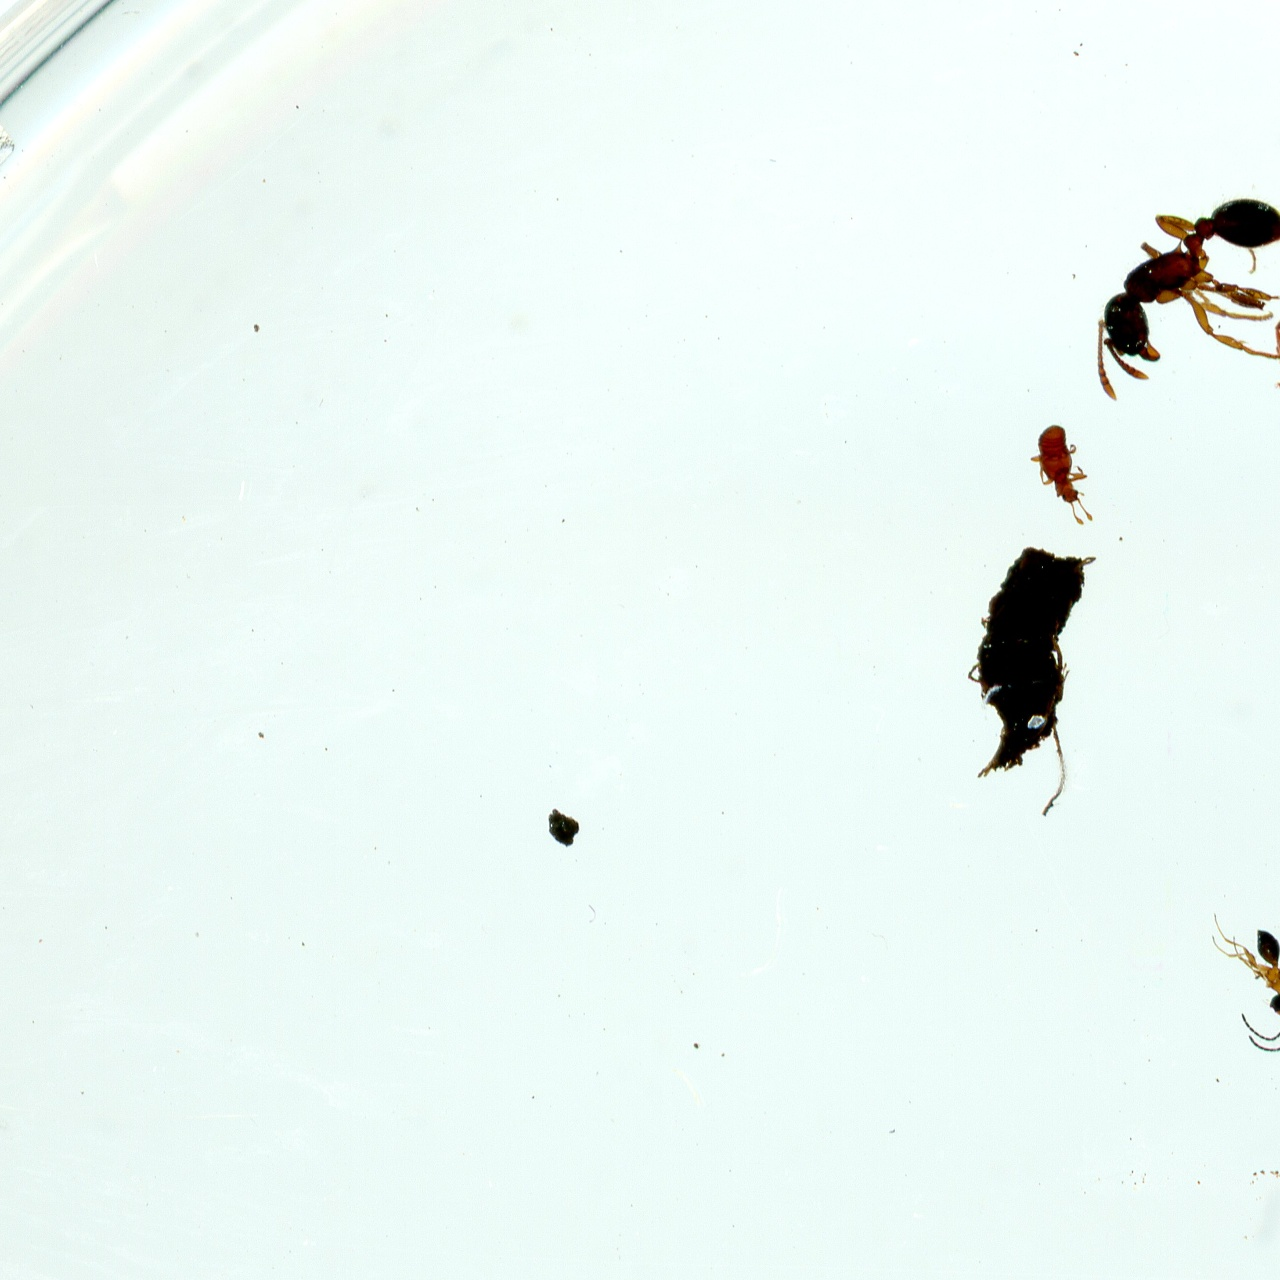arthropod: (1093, 193, 1280, 401), (1208, 911, 1280, 1065), (1021, 417, 1100, 536), (1259, 280, 1280, 459)
